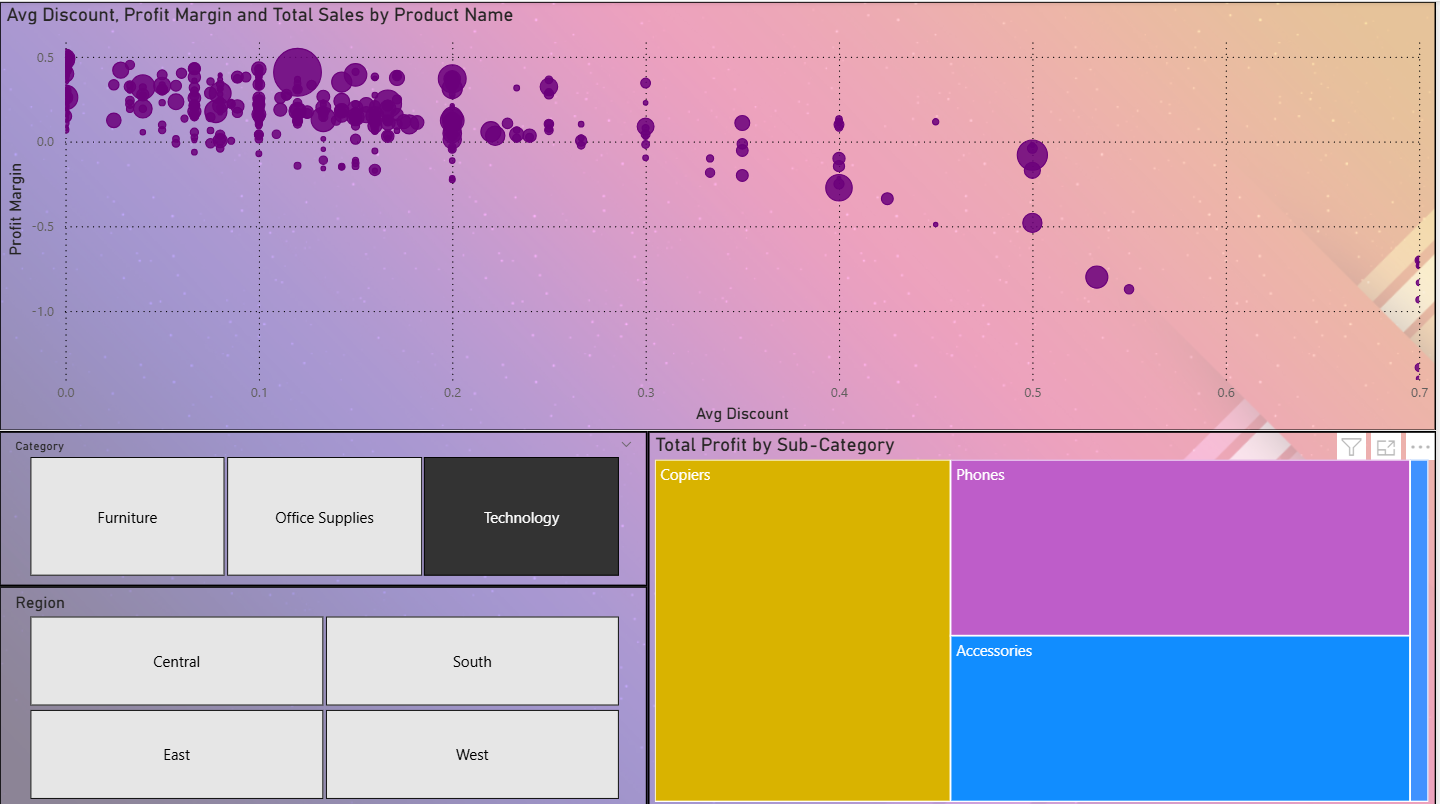

What the dashboard file says about the page in this screenshot:
{"tool":"powerbi","page":{"name":"Profit & Discount Analytics","canvas":[1280,720],"ordinal":1},"visuals":[{"type":"scatterChart","fields":{"X":["_Measures.Avg Discount"],"Y":["_Measures.Profit Margin"],"Category":["Dim_Product.Product Name"],"Size":["_Measures.Total Sales"]},"box":[0,0,1280.3,382.8],"z":0},{"type":"treemap","fields":{"Group":["Dim_Product.Sub-Category"],"Values":["_Measures.Total Profit"]},"box":[577.7,382.8,702.6,337.6],"z":1000},{"type":"slicer","fields":{"Values":["Dim_Location.Region"]},"box":[0,521.4,577.7,199],"z":2000},{"type":"slicer","fields":{"Values":["Dim_Product.Category"]},"box":[0,382.8,577.7,138.6],"z":3000}]}

Visuals, with their boxes in screenshot pixels (x1, y1, x2, y2), scaled from the page's 1280x720 canvas onto the 1440x804 screenshot:
scatterChart - _Measures.Avg Discount x _Measures.Profit Margin: l=0, t=0, r=1439, b=427
treemap - Dim_Product.Sub-Category x _Measures.Total Profit: l=650, t=427, r=1439, b=803
slicer - Dim_Location.Region: l=0, t=582, r=650, b=803
slicer - Dim_Product.Category: l=0, t=427, r=650, b=582
